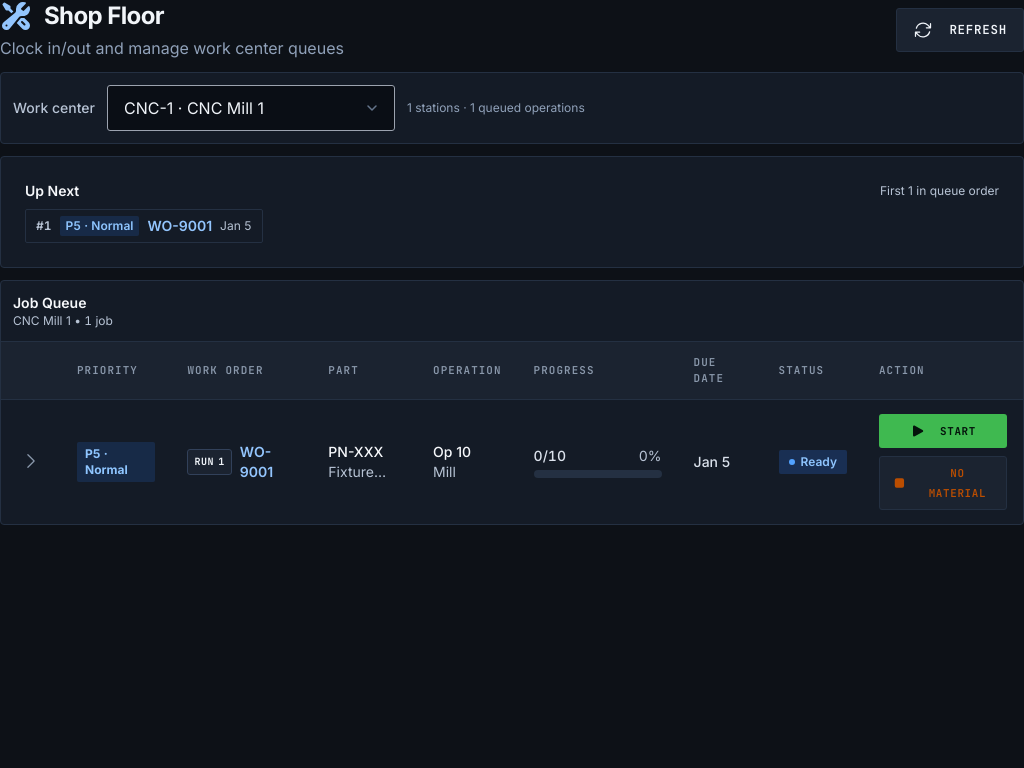
Test case: ShopFloor material-blocker InputDialog › cancel closes the dialog and posts nothing
Click the button "No Material" at (943, 483), box [879,456,1007,510]
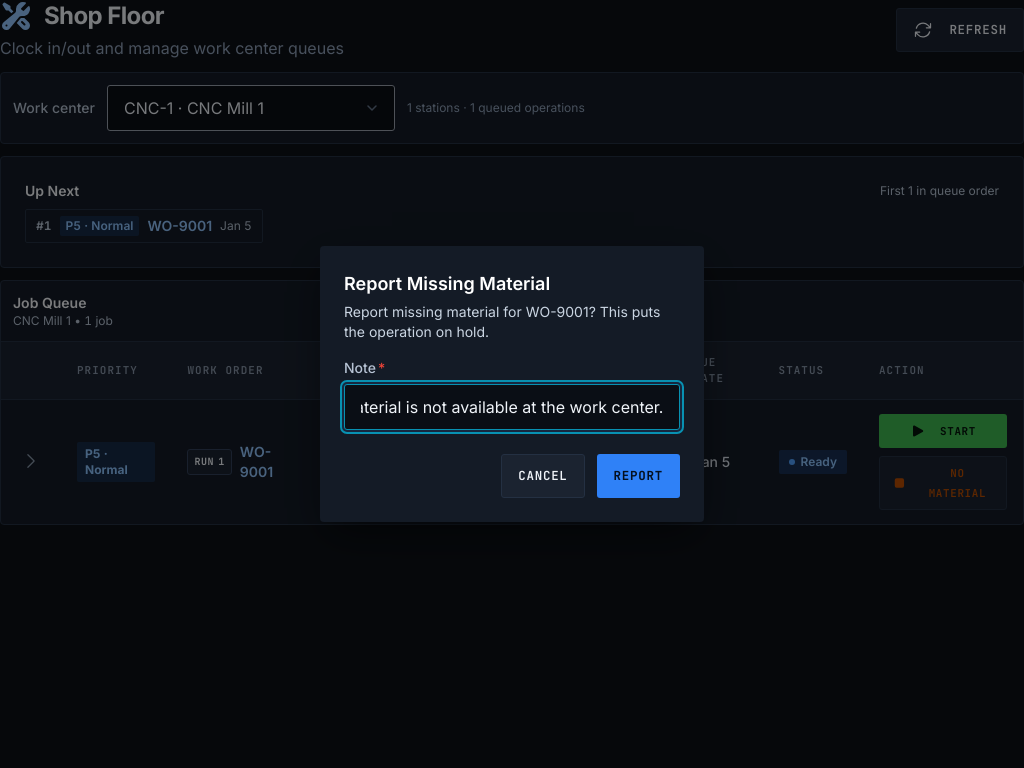
Click the button "Cancel" at (543, 476), box [501,454,585,498]
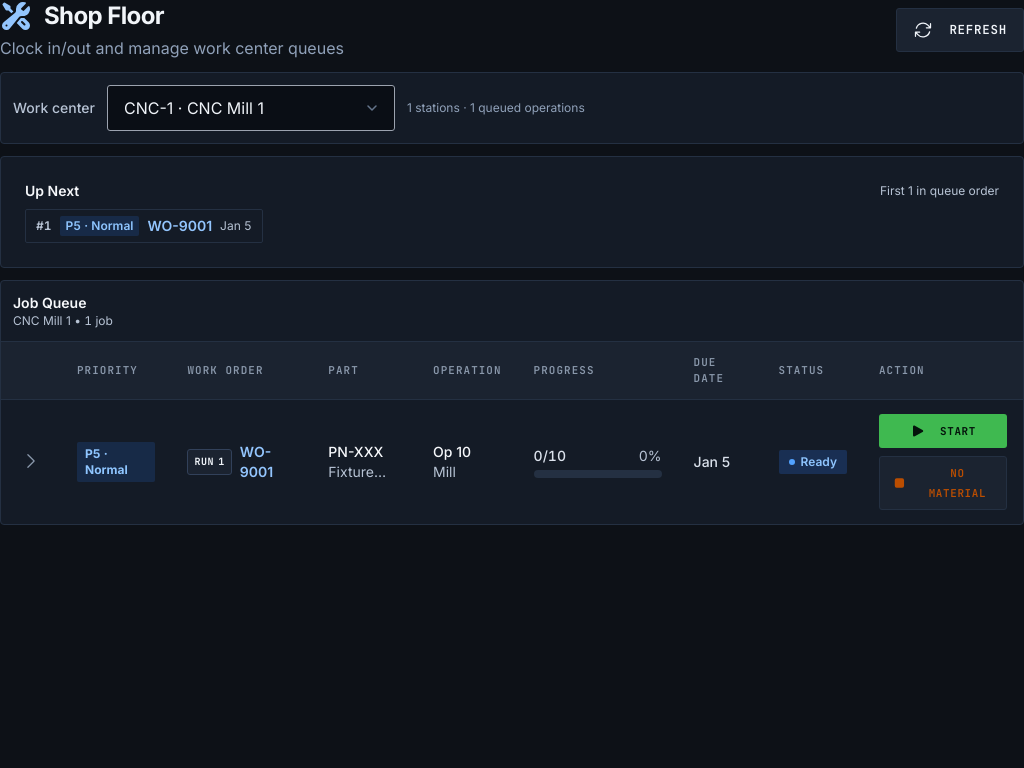
Result: the dialog is gone
